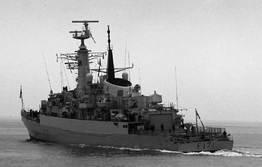warship: (20, 16, 234, 152)
